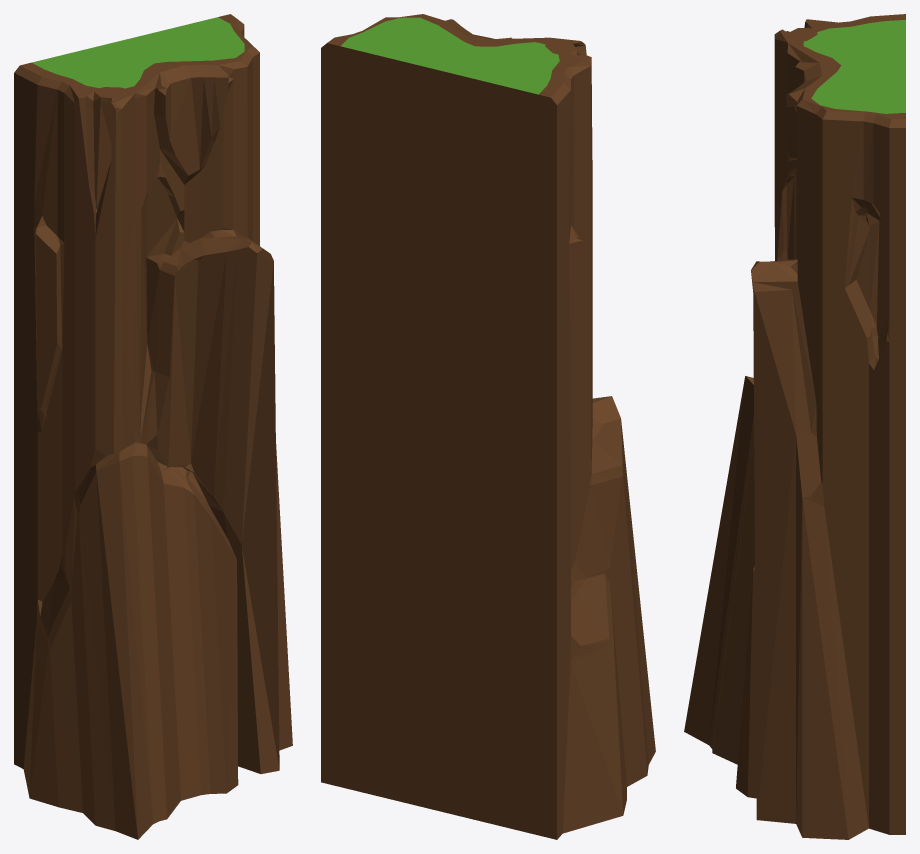
The model's file is Cliff x3 Edge 2.fbx.
3 renders of one model, left to right at view 1: azimuth 30°, elevation 25°; view 2: azimuth 150°, elevation 25°; view 3: azimuth 270°, elevation 25°, orthographic. The views are drawn at different scales.
Visible parts, largest first — view 1: Cliff x3 Edge 2; view 2: Cliff x3 Edge 2; view 3: Cliff x3 Edge 2.
Boxes of the visible parts, x1,y1,x2,y2 form: Cliff x3 Edge 2: (14, 14, 292, 839); Cliff x3 Edge 2: (321, 14, 655, 839); Cliff x3 Edge 2: (684, 14, 905, 839).
Bounding box in the file's own units: 2.3 × 6 × 1.69.
